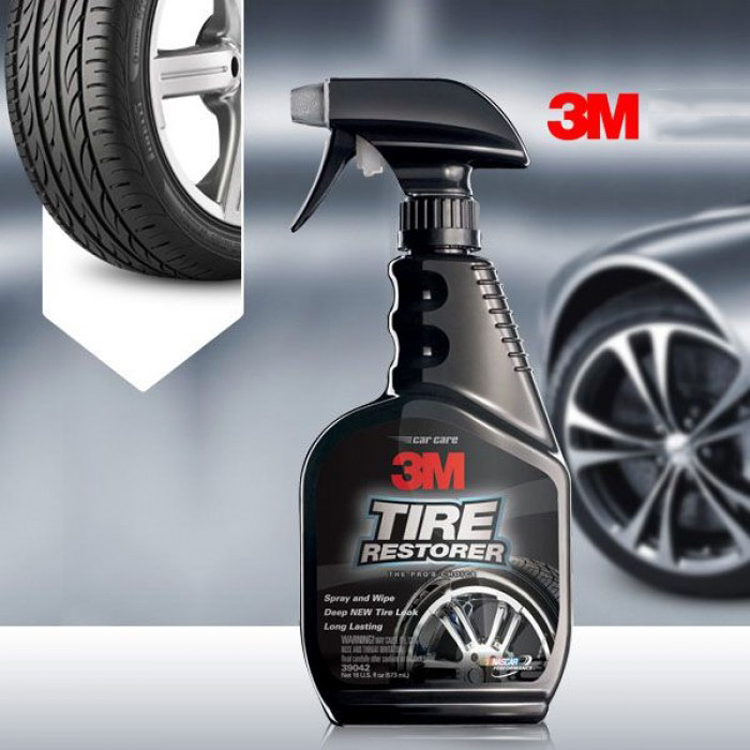3M: (525, 75, 661, 158), (387, 445, 473, 496)
